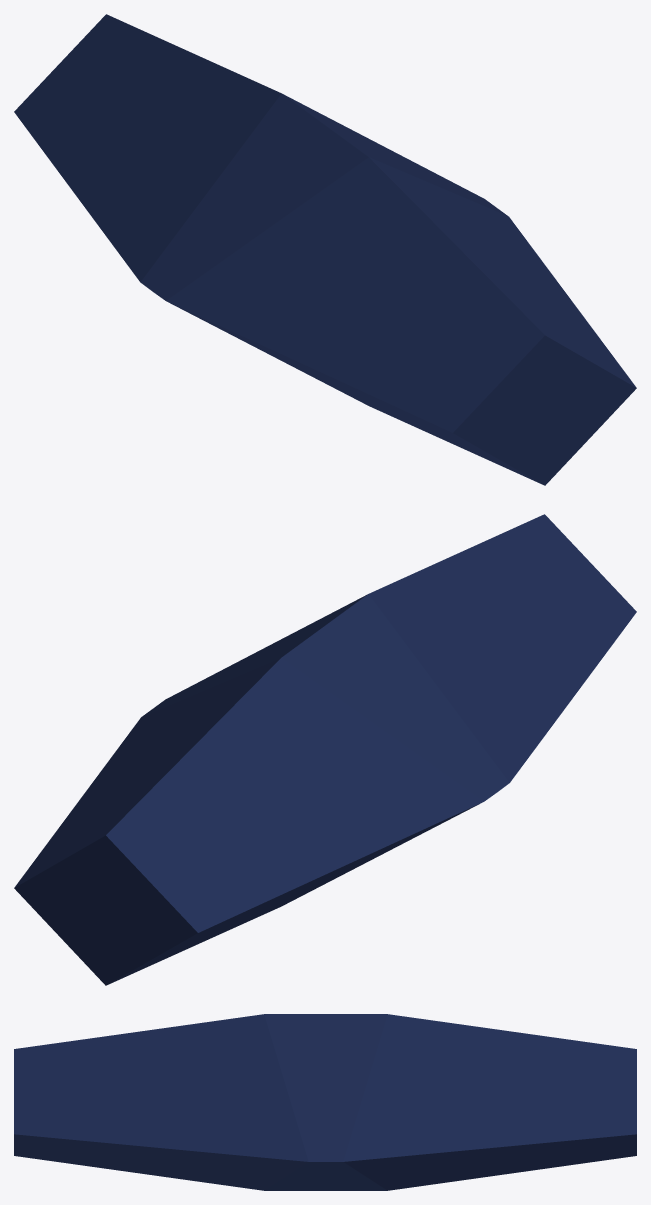
The model's file is ethereum_physx.fbx.
3 renders of one model, top to bottom at view 1: azimuth 30°, elevation 25°; view 2: azimuth 150°, elevation 25°; view 3: azimuth 270°, elevation 25°, orthographic. The views are drawn at different scales.
Visible parts, largest first — view 1: Ethereum - Physx; view 2: Ethereum - Physx; view 3: Ethereum - Physx.
Part boxes in pixels (x1,y1,x2,y2): Ethereum - Physx: [14, 14, 636, 485]; Ethereum - Physx: [14, 514, 636, 985]; Ethereum - Physx: [14, 1014, 636, 1190].
Bounding box in the file's own units: 8.59 × 18.99 × 5.94.
